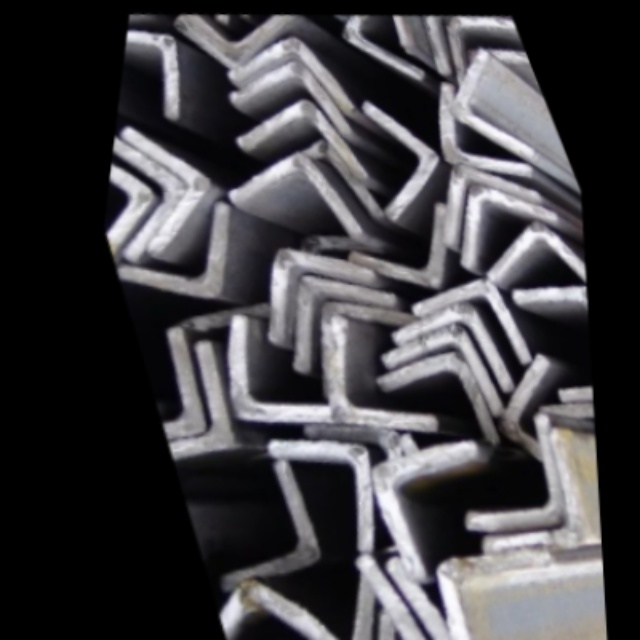Angle: (460, 440, 592, 559), (379, 450, 501, 567), (111, 126, 224, 252), (448, 423, 576, 533), (111, 200, 245, 301), (278, 435, 388, 558), (437, 544, 571, 640), (313, 324, 425, 437), (229, 90, 360, 186), (441, 175, 569, 271), (248, 243, 379, 333), (102, 132, 200, 251), (220, 51, 344, 142), (227, 29, 348, 121), (355, 101, 453, 214), (277, 268, 404, 354), (220, 149, 347, 234), (381, 357, 493, 453), (206, 475, 313, 575), (393, 306, 506, 400), (334, 557, 461, 640), (439, 47, 529, 162), (136, 352, 238, 450), (426, 158, 544, 242), (428, 78, 525, 180), (173, 0, 306, 69), (418, 279, 521, 368), (393, 334, 495, 419), (483, 218, 587, 301), (353, 204, 458, 284), (436, 6, 535, 90), (516, 277, 592, 383), (100, 143, 167, 263), (211, 578, 336, 640), (421, 2, 515, 79), (497, 365, 575, 456), (119, 31, 197, 116), (549, 394, 599, 502)
